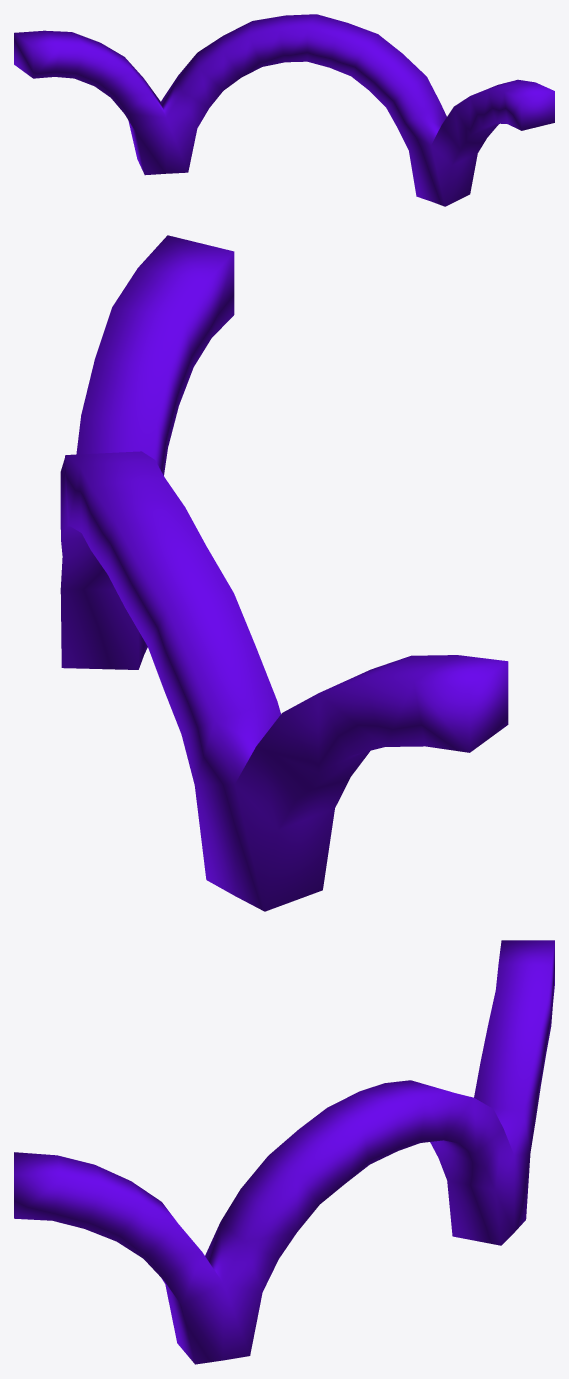
File: Cupola_E.fbx
The picture shows the model from 3 angles, top to bottom: view 1: azimuth 30°, elevation 25°; view 2: azimuth 150°, elevation 25°; view 3: azimuth 270°, elevation 25°; orthographic projection. The views are drawn at different scales.
Visible parts, largest first — view 1: Cupola_E; view 2: Cupola_E; view 3: Cupola_E.
Part boxes in pixels (x1,y1,x2,y2): Cupola_E: [14, 14, 554, 206]; Cupola_E: [60, 235, 508, 911]; Cupola_E: [14, 940, 554, 1364].
Bounding box in the file's own units: 270 × 109 × 264.
